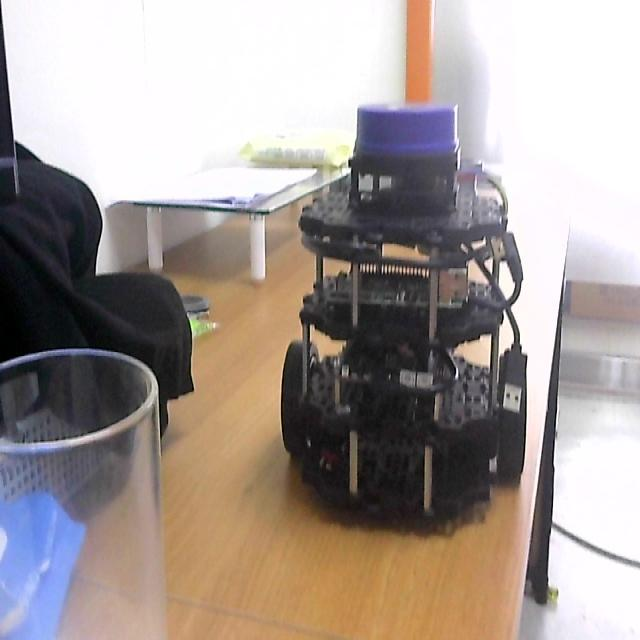turtle: (280, 99, 530, 536)
